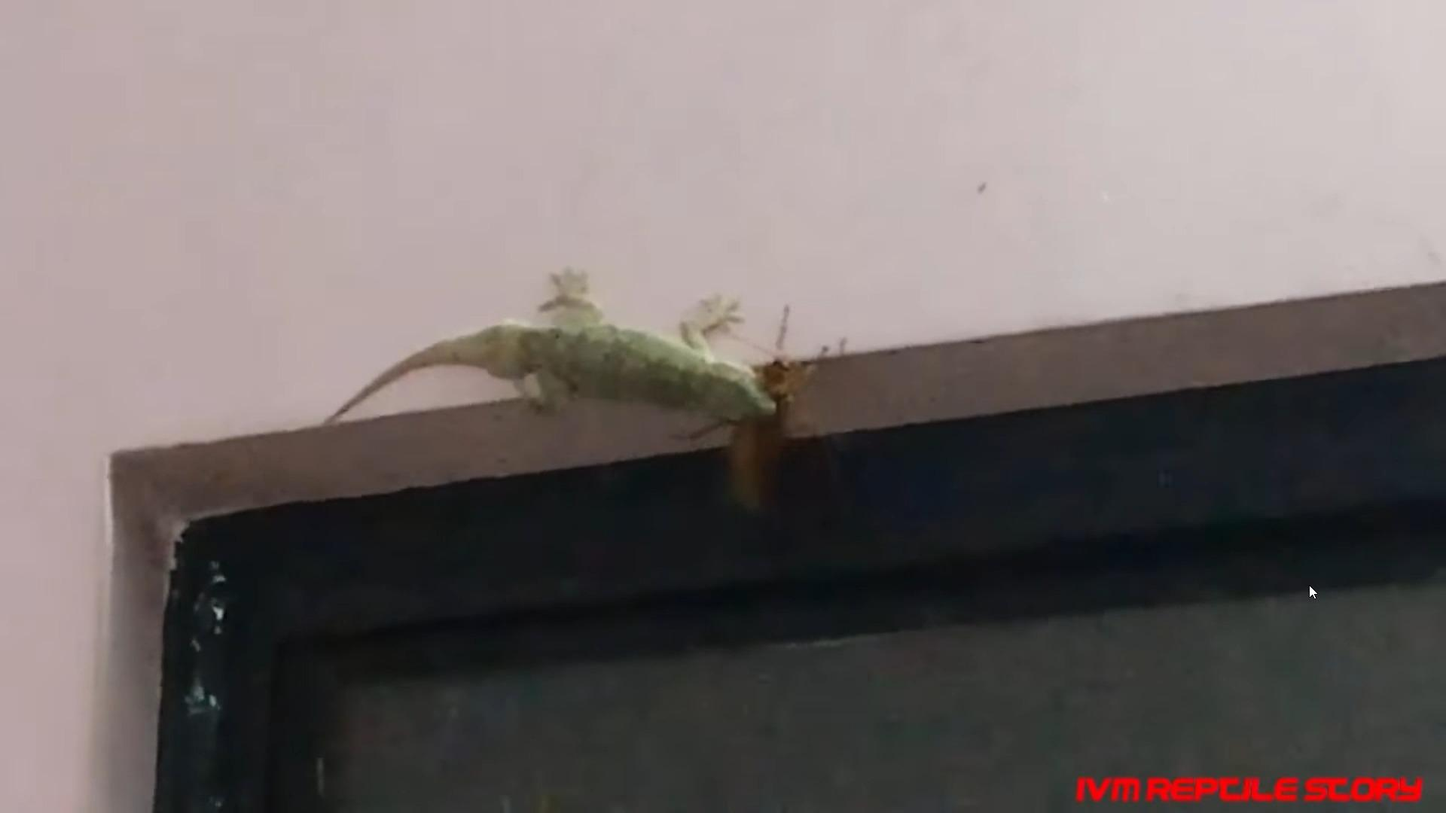cockroach: (739, 360, 799, 509)
lizard: (322, 268, 774, 447)
